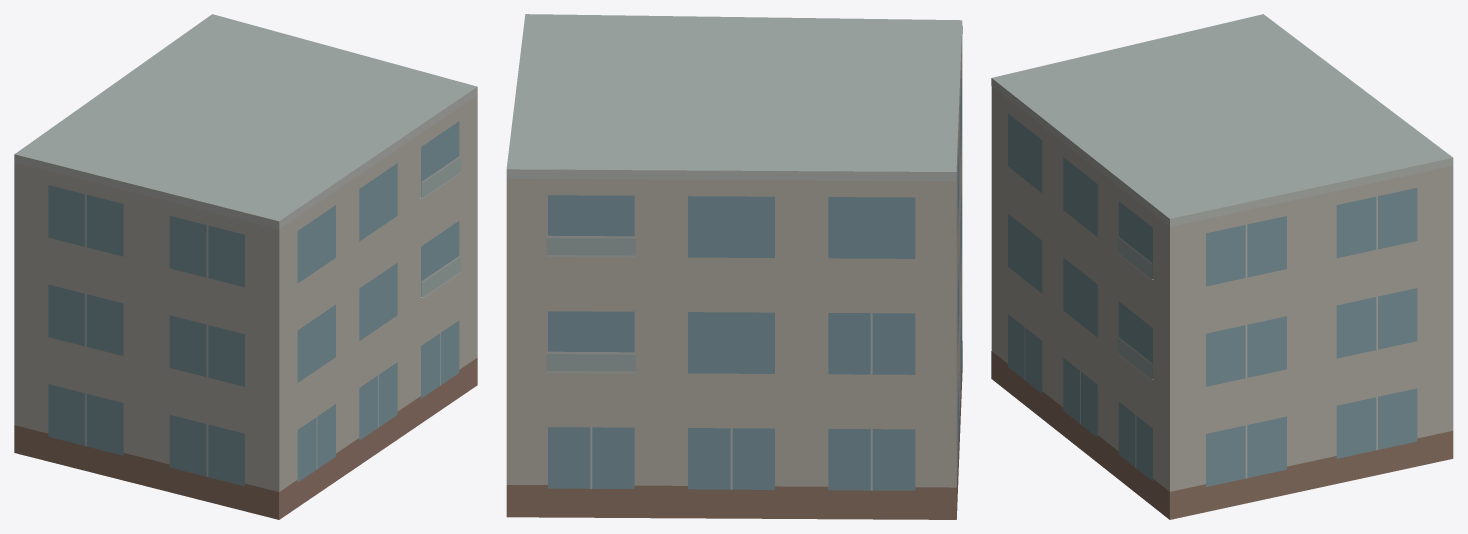
Rendered from survey-upis-32604152.glb.
3 views of the same model, side by side, from view 1: azimuth 30°, elevation 25°; view 2: azimuth 150°, elevation 25°; view 3: azimuth 270°, elevation 25° (orthographic). The views are drawn at different scales.
Visible parts, largest first — view 1: survey-upis-32604152.tmp; view 2: survey-upis-32604152.tmp; view 3: survey-upis-32604152.tmp.
Part boxes in pixels (box(x1,y1,x2,y2)): survey-upis-32604152.tmp: box(14, 14, 477, 519); survey-upis-32604152.tmp: box(506, 14, 962, 519); survey-upis-32604152.tmp: box(991, 14, 1453, 519).
Size of the model in its own units: 13.37 by 9.15 by 12.74.
